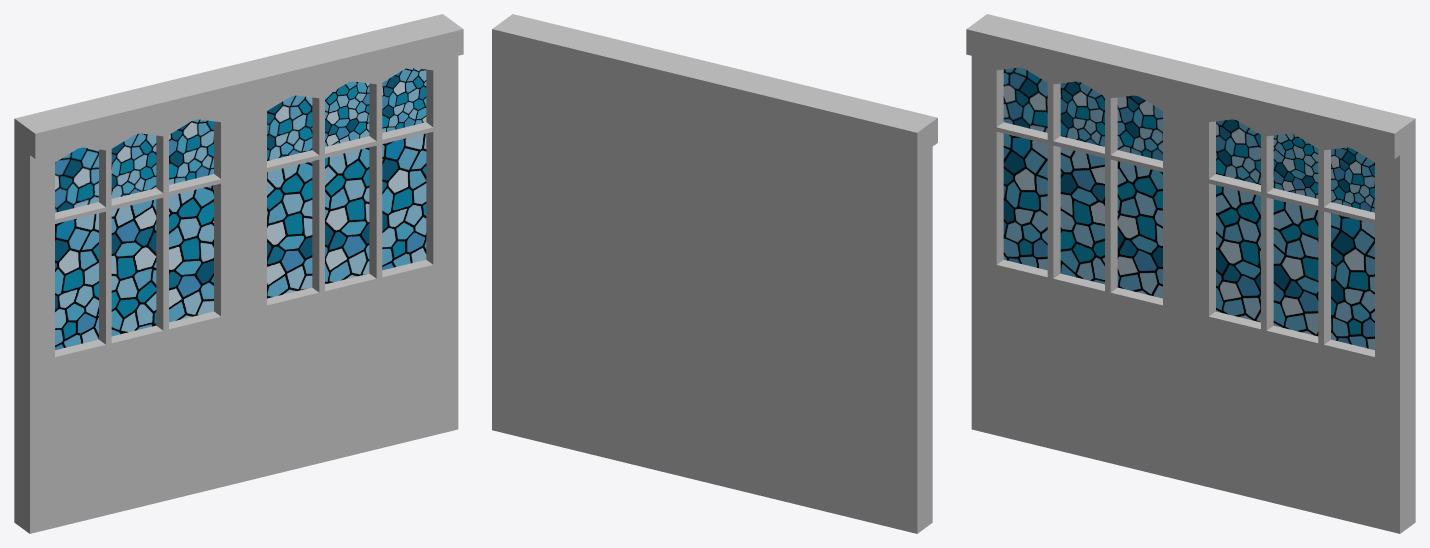
File: last_groundwall2.fbx
The picture shows the model from 3 angles, left to right: view 1: azimuth 30°, elevation 25°; view 2: azimuth 150°, elevation 25°; view 3: azimuth 330°, elevation 25°; orthographic projection.
Parts seen in each view (by area): view 1: glasswall; view 2: glasswall; view 3: glasswall.
Boxes of the visible parts, <box> form: glasswall: <box>14,14,463,533</box>; glasswall: <box>492,14,937,533</box>; glasswall: <box>966,14,1415,533</box>.
Size of the model in its own units: 3200 by 2885 by 269.
